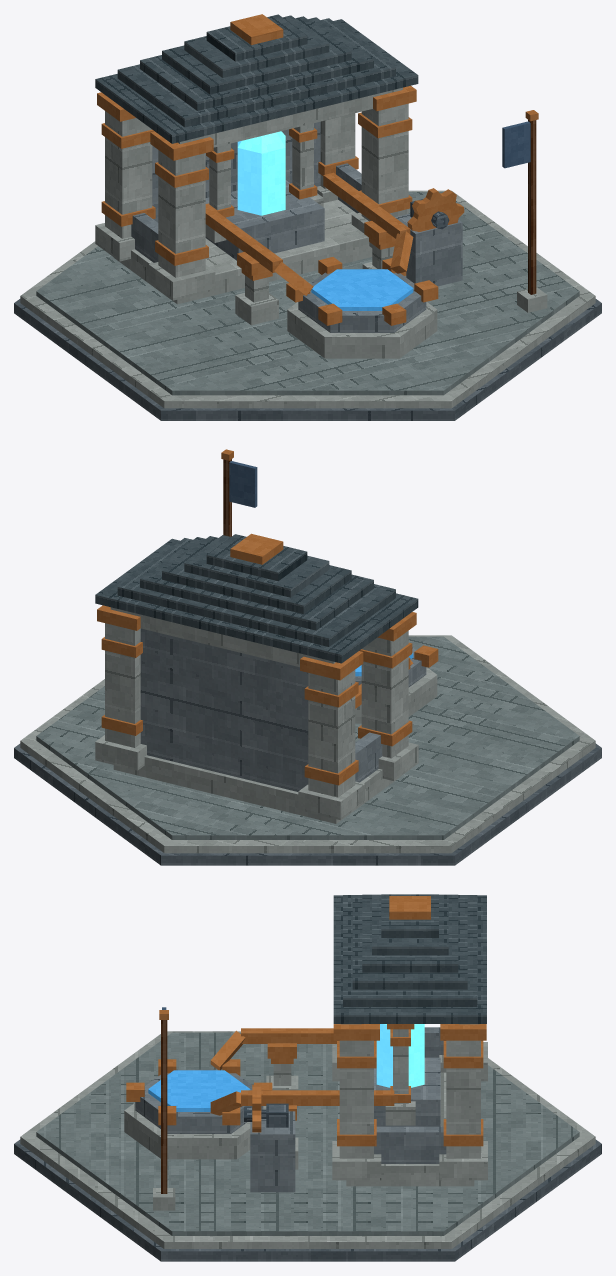
Rendered from dwarf_arcane_shrine_hex_v1.glb.
3 renders of one model, top to bottom at view 1: azimuth 30°, elevation 25°; view 2: azimuth 150°, elevation 25°; view 3: azimuth 270°, elevation 25°, orthographic.
Parts seen in each view (by area): view 1: Dwarf_Arcane_Shrine_Hex_V1_Foundation, Dwarf_Arcane_Shrine_Hex_V1_Focus, Dwarf_Arcane_Shrine_Hex_V1_Structure, Dwarf_Arcane_Shrine_Hex_V1_Roofs, Dwarf_Arcane_Shrine_Hex_V1_Hall, Dwarf_Arcane_Shrine_Hex_V1_Details, Dwarf_Arcane_Shrine_Hex_V1_Faction; view 2: Dwarf_Arcane_Shrine_Hex_V1_Foundation, Dwarf_Arcane_Shrine_Hex_V1_Hall, Dwarf_Arcane_Shrine_Hex_V1_Roofs, Dwarf_Arcane_Shrine_Hex_V1_Structure, Dwarf_Arcane_Shrine_Hex_V1_Details, Dwarf_Arcane_Shrine_Hex_V1_Focus, Dwarf_Arcane_Shrine_Hex_V1_Faction; view 3: Dwarf_Arcane_Shrine_Hex_V1_Foundation, Dwarf_Arcane_Shrine_Hex_V1_Focus, Dwarf_Arcane_Shrine_Hex_V1_Roofs, Dwarf_Arcane_Shrine_Hex_V1_Structure, Dwarf_Arcane_Shrine_Hex_V1_Hall, Dwarf_Arcane_Shrine_Hex_V1_Details.
Part boxes in pixels (x1,y1,x2,y2): Dwarf_Arcane_Shrine_Hex_V1_Foundation: [14, 190, 601, 420]; Dwarf_Arcane_Shrine_Hex_V1_Focus: [205, 131, 464, 358]; Dwarf_Arcane_Shrine_Hex_V1_Structure: [95, 85, 416, 325]; Dwarf_Arcane_Shrine_Hex_V1_Roofs: [95, 14, 418, 143]; Dwarf_Arcane_Shrine_Hex_V1_Hall: [113, 121, 372, 304]; Dwarf_Arcane_Shrine_Hex_V1_Details: [101, 110, 547, 312]; Dwarf_Arcane_Shrine_Hex_V1_Faction: [502, 121, 530, 168]; Dwarf_Arcane_Shrine_Hex_V1_Foundation: [14, 635, 601, 865]; Dwarf_Arcane_Shrine_Hex_V1_Hall: [113, 628, 399, 823]; Dwarf_Arcane_Shrine_Hex_V1_Roofs: [95, 533, 418, 663]; Dwarf_Arcane_Shrine_Hex_V1_Structure: [95, 605, 418, 820]; Dwarf_Arcane_Shrine_Hex_V1_Details: [101, 449, 412, 785]; Dwarf_Arcane_Shrine_Hex_V1_Focus: [355, 645, 438, 723]; Dwarf_Arcane_Shrine_Hex_V1_Faction: [229, 461, 257, 507]; Dwarf_Arcane_Shrine_Hex_V1_Foundation: [14, 1031, 601, 1261]; Dwarf_Arcane_Shrine_Hex_V1_Focus: [124, 1024, 440, 1192]; Dwarf_Arcane_Shrine_Hex_V1_Roofs: [333, 894, 486, 1023]; Dwarf_Arcane_Shrine_Hex_V1_Structure: [266, 1024, 487, 1180]; Dwarf_Arcane_Shrine_Hex_V1_Hall: [346, 1027, 474, 1186]; Dwarf_Arcane_Shrine_Hex_V1_Details: [153, 1010, 483, 1210].
Bounding box in the file's own units: 1.59 × 0.864 × 1.84.
1 material, 1 textured.
